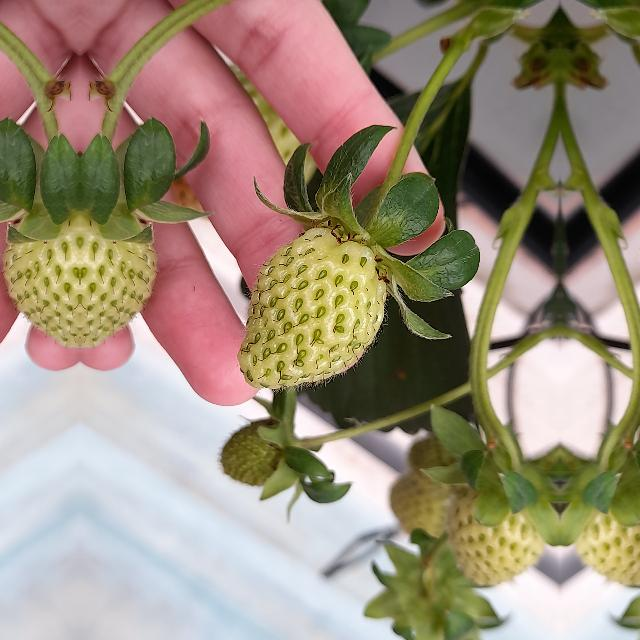Health_25: (236, 226, 386, 388), (444, 456, 544, 586), (80, 195, 156, 351), (4, 195, 80, 351), (576, 456, 640, 585)
